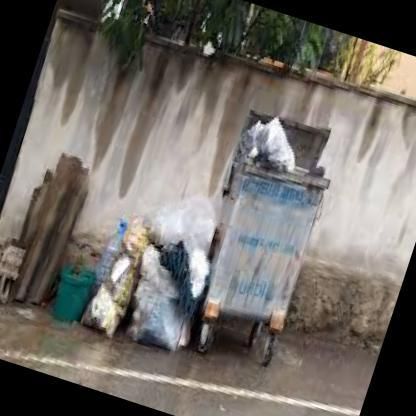Garbage: (99, 178, 232, 396), (70, 198, 163, 367), (118, 246, 199, 359), (142, 181, 220, 265), (232, 104, 316, 180), (253, 118, 307, 180), (236, 118, 268, 166)
